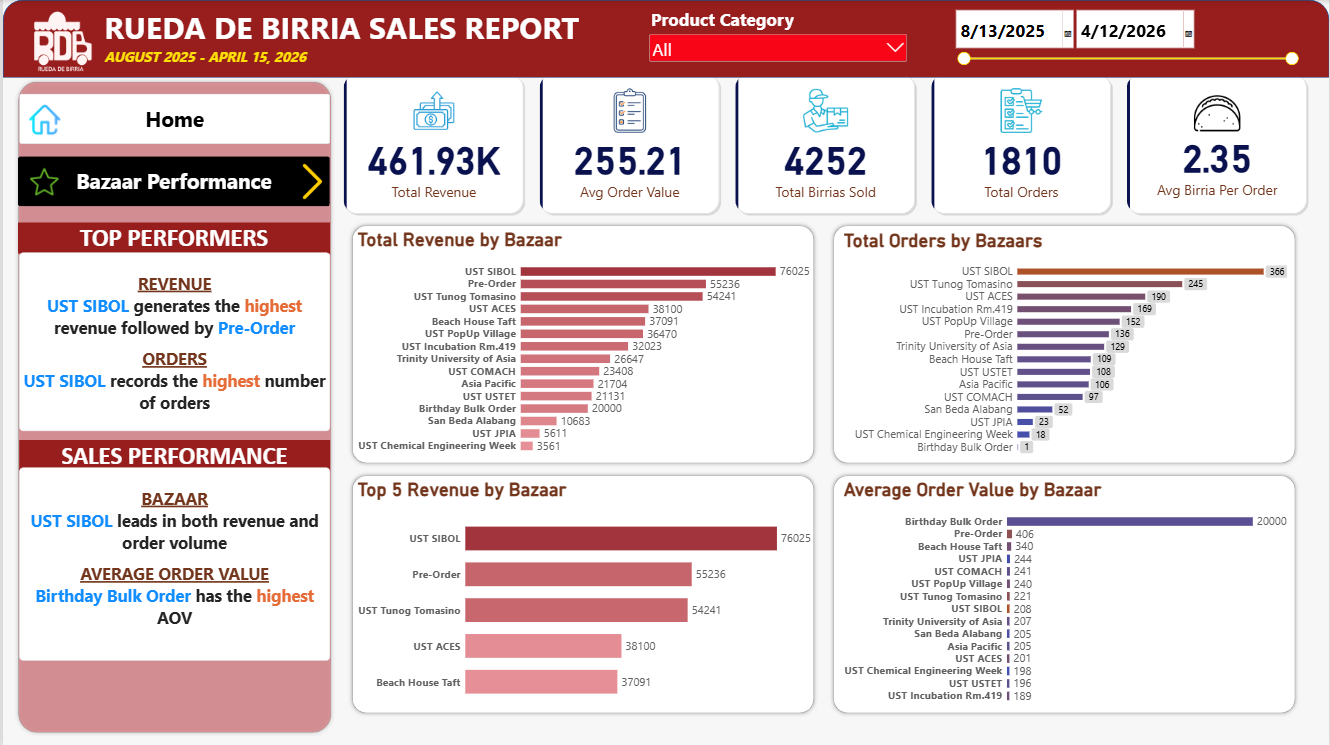

Layout of this report page (visuals, bound fields, positions):
{"tool":"powerbi","page":{"name":"Bazaar Performance","canvas":[2560,1440],"ordinal":1},"visuals":[{"type":"cardVisual","fields":{"Data":["rdb_sales.Total Revenue","rdb_sales.Avg Order Value","rdb_sales.Total Birrias Sold","rdb_sales.Total Orders","rdb_sales.Avg Birria Per Order"]},"box":[642.5,127.5,1892.5,300],"z":0},{"type":"shape","box":[0,0,2560,150],"z":1000},{"type":"textbox","box":[195,12.5,942.5,82.5],"z":2000},{"type":"shape","box":[22.5,150,620,1272.5],"z":3000},{"type":"textbox","box":[195,92.5,410,55],"z":4000},{"type":"image","box":[0,0,227.5,180],"z":5000},{"type":"shape","box":[665,427.5,907.5,475],"z":6000},{"type":"textbox","box":[30,430,602.5,60],"z":7000},{"type":"textbox","box":[32.5,487.5,600,345],"z":8000},{"type":"textbox","box":[32.5,850,600,60],"z":9000},{"type":"textbox","box":[32.5,902.5,600,372.5],"z":10000},{"type":"shape","box":[1595,427.5,907.5,475],"z":13000},{"type":"shape","box":[665,910,907.5,475],"z":14000},{"type":"shape","box":[1595,910,907.5,475],"z":15000},{"type":"barChart","title":"Top 5 Revenue by Bazaar","fields":{"Y":["rdb_sales.Total Revenue"],"Category":["rdb_sales.bazaar_location"]},"box":[667.5,910,907.5,475],"z":16000},{"type":"barChart","title":"Total Revenue by Bazaar","fields":{"Y":["rdb_sales.Total Revenue"],"Category":["rdb_sales.bazaar_location"]},"box":[667.5,427.5,905,467.5],"z":17000},{"type":"barChart","title":"Average Order Value by Bazaar","fields":{"Category":["rdb_sales.bazaar_location"],"Y":["rdb_sales.Avg Order Value"]},"box":[1607.5,910,887.5,467.5],"z":18000},{"type":"clusteredBarChart","title":"Total Orders by Bazaars","fields":{"Category":["rdb_sales.bazaar_location"],"Y":["rdb_sales.Total Orders"]},"box":[1607.5,430,887.5,465],"z":19000},{"type":"pageNavigator","box":[32.5,180,600,97.5],"z":20000},{"type":"pageNavigator","box":[30,302.5,602.5,97.5],"z":21000},{"type":"image","box":[562.5,302.5,70,97.5],"z":22000},{"type":"image","box":[50,182.5,60,95],"z":23000},{"type":"image","box":[46.2,323.8,67.5,55],"z":24000},{"type":"slicer","fields":{"Values":["rdb_sales.product_category"]},"box":[1242.5,15,507.5,122.5],"z":24001},{"type":"slicer","fields":{"Values":["rdb_sales.order_date"]},"box":[1832.5,15,672.5,122.5],"z":24002}]}

Visuals, with their boxes in screenshot pixels (x1, y1, x2, y2), scaled from the page's 2560x1440 canvas onto the 1330x745 screenshot:
cardVisual - rdb_sales.Total Revenue x rdb_sales.Avg Order Value: rect(334, 66, 1317, 221)
shape: rect(0, 0, 1329, 78)
textbox: rect(101, 6, 591, 49)
shape: rect(12, 78, 334, 736)
textbox: rect(101, 48, 314, 76)
image: rect(0, 0, 118, 93)
shape: rect(345, 221, 817, 467)
textbox: rect(16, 222, 329, 254)
textbox: rect(17, 252, 329, 431)
textbox: rect(17, 440, 329, 471)
textbox: rect(17, 467, 329, 660)
shape: rect(829, 221, 1300, 467)
shape: rect(345, 471, 817, 717)
shape: rect(829, 471, 1300, 717)
"Top 5 Revenue by Bazaar" barChart: rect(347, 471, 818, 717)
"Total Revenue by Bazaar" barChart: rect(347, 221, 817, 463)
"Average Order Value by Bazaar" barChart: rect(835, 471, 1296, 713)
"Total Orders by Bazaars" clusteredBarChart: rect(835, 222, 1296, 463)
pageNavigator: rect(17, 93, 329, 144)
pageNavigator: rect(16, 157, 329, 207)
image: rect(292, 157, 329, 207)
image: rect(26, 94, 57, 144)
image: rect(24, 168, 59, 196)
slicer - rdb_sales.product_category: rect(646, 8, 909, 71)
slicer - rdb_sales.order_date: rect(952, 8, 1301, 71)
